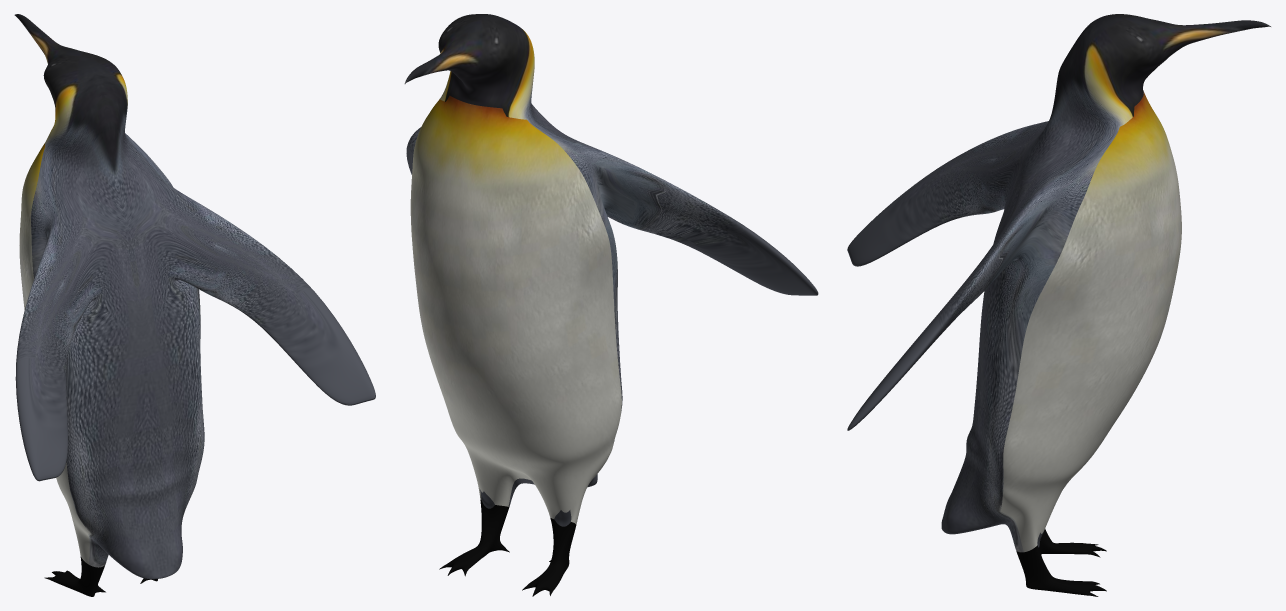
The model's file is emperor_penguin.glb.
3 views of the same model, side by side, from view 1: azimuth 30°, elevation 25°; view 2: azimuth 150°, elevation 25°; view 3: azimuth 270°, elevation 25° (orthographic). The views are drawn at different scales.
Visible parts, largest first — view 1: Cube; view 2: Cube; view 3: Cube.
Part boxes in pixels (x1,y1,x2,y2): Cube: (14,14,375,596); Cube: (404,14,818,596); Cube: (847,14,1270,596).
Bounding box in the file's own units: 0.538 × 0.7538 × 0.5247.
3 materials, 2 textured.
